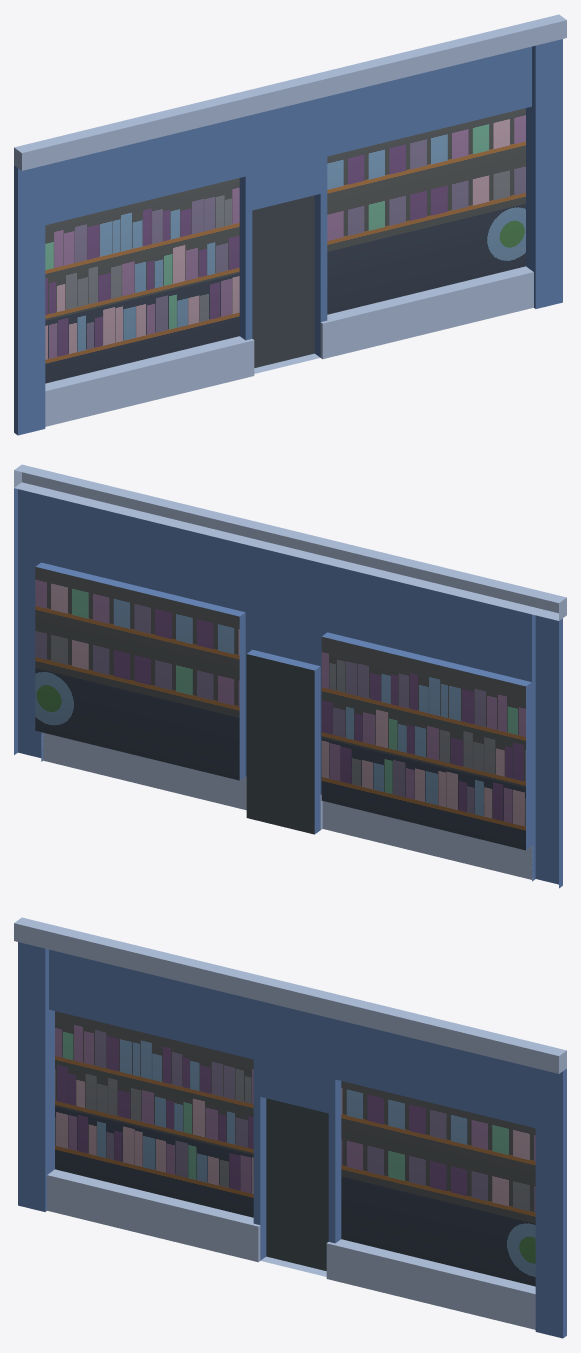
Rendered from SM_ShopFront_8m_Kitap.obj.
The picture shows the model from 3 angles, top to bottom: view 1: azimuth 30°, elevation 25°; view 2: azimuth 150°, elevation 25°; view 3: azimuth 330°, elevation 25°; orthographic projection.
Parts seen in each view (by area): view 1: ShopFront; view 2: ShopFront; view 3: ShopFront.
Part boxes in pixels (x1,y1,x2,y2): ShopFront: (14, 14, 566, 435); ShopFront: (14, 464, 566, 888); ShopFront: (14, 917, 566, 1338).
Bounding box in the file's own units: 8 × 4 × 0.35.
